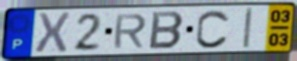2: (71, 12, 104, 53)
B: (147, 11, 187, 51)
C: (194, 8, 231, 50)
I: (241, 7, 254, 51)
R: (111, 13, 149, 50)
X: (33, 11, 72, 56)
